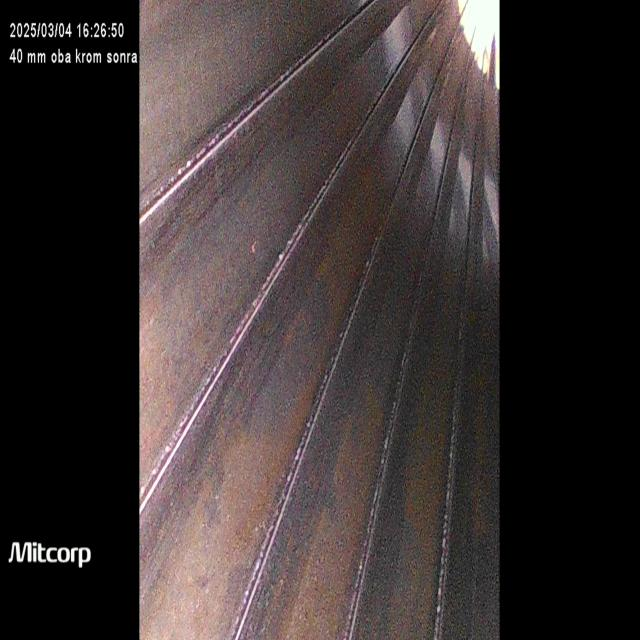hata_4.2: (138, 368, 332, 640), (278, 106, 412, 355), (272, 381, 398, 640), (139, 206, 253, 488), (381, 351, 460, 639), (468, 320, 493, 547)
